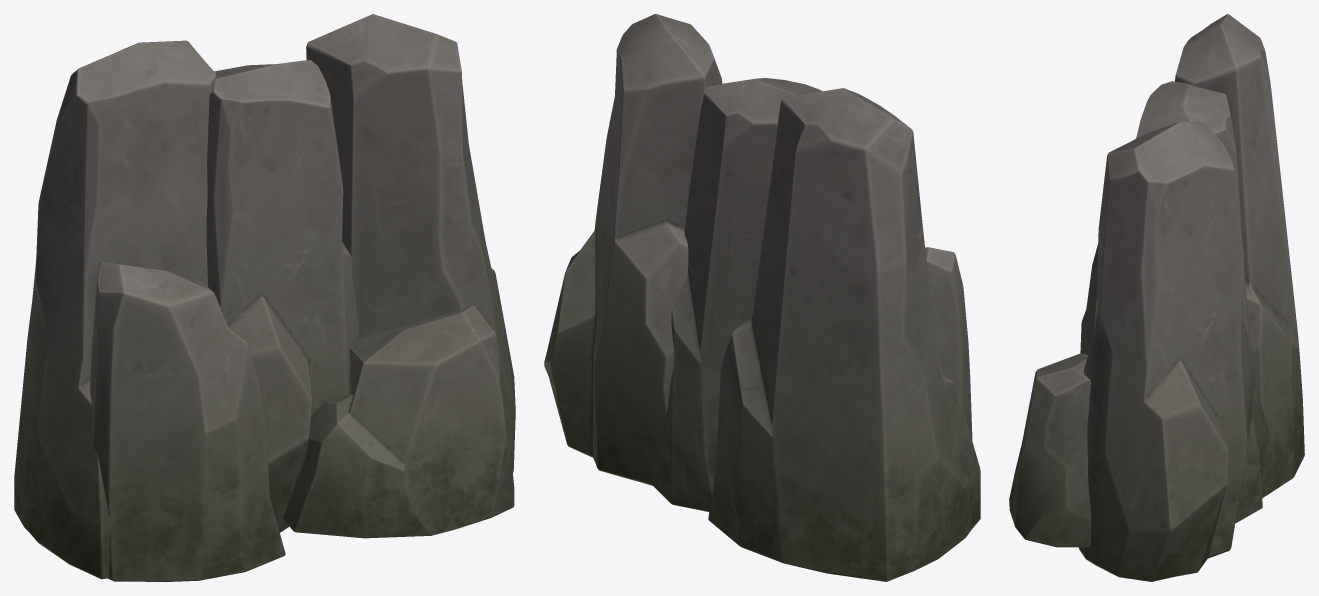
The model's file is AP2_Rock12.glb.
3 renders of one model, left to right at view 1: azimuth 30°, elevation 25°; view 2: azimuth 150°, elevation 25°; view 3: azimuth 270°, elevation 25°, orthographic. The views are drawn at different scales.
Parts seen in each view (by area): view 1: Rock12_LOD0; view 2: Rock12_LOD0; view 3: Rock12_LOD0.
Boxes of the visible parts, <box> form: Rock12_LOD0: <box>14,14,515,581</box>; Rock12_LOD0: <box>544,14,980,581</box>; Rock12_LOD0: <box>1009,14,1304,581</box>.
Size of the model in its own units: 8.35 by 8.49 by 5.36.
Materials: 1 (1 with a texture image).
